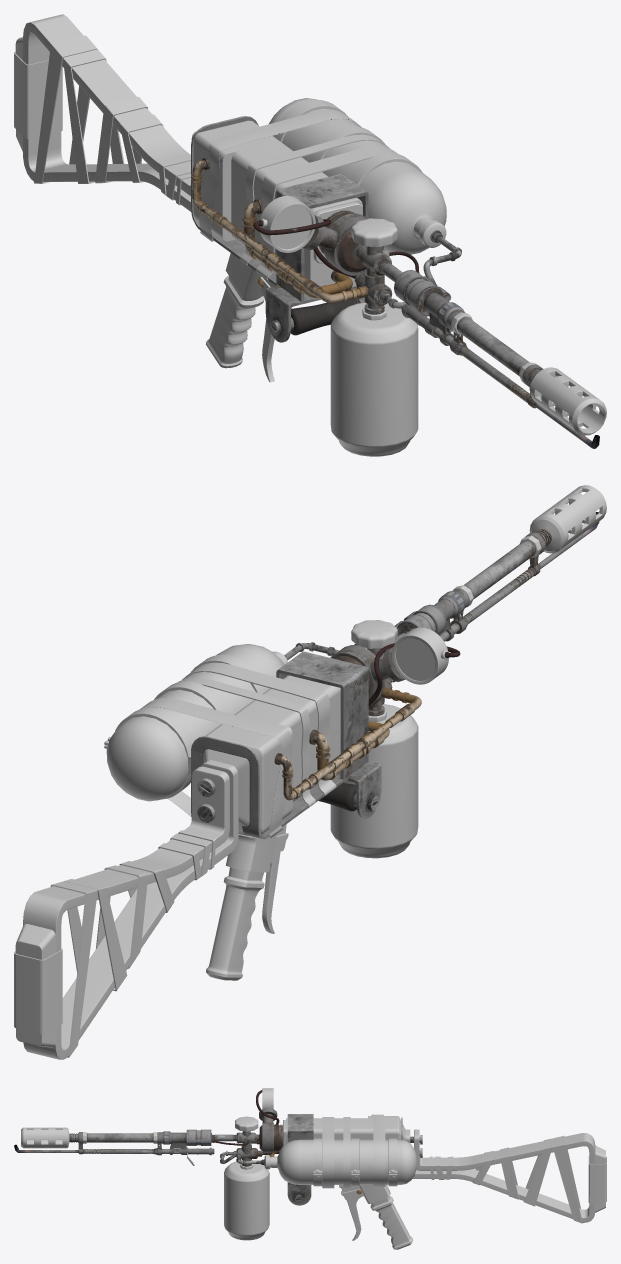
The picture shows the model from 3 angles, top to bottom: view 1: azimuth 30°, elevation 25°; view 2: azimuth 150°, elevation 25°; view 3: azimuth 270°, elevation 25°; orthographic projection. The views are drawn at different scales.
Visible parts, largest first — view 1: pCylinder44, polySurface130, polySurface163, pCube14, pCube15, polySurface179, polySurface187, polySurface126, polySurface111, polySurface180, polySurface121, polySurface106 (+18 smaller); view 2: polySurface130, polySurface163, pCube15, pCube14, pCylinder44, polySurface179, polySurface111, polySurface180, polySurface126, polySurface106, polySurface161, polySurface121 (+14 smaller); view 3: polySurface163, polySurface130, pCylinder44, pCube14, polySurface187, polySurface179, pCube15, polySurface121, polySurface126, polySurface180, polySurface161, polySurface115 (+16 smaller).
Boxes of the visible parts, bbox=[...] form: pCylinder44: bbox=[330, 302, 418, 456]; polySurface130: bbox=[23, 14, 197, 211]; polySurface163: bbox=[269, 98, 446, 254]; pCube14: bbox=[193, 120, 362, 287]; pCube15: bbox=[191, 116, 368, 342]; polySurface179: bbox=[206, 253, 264, 368]; polySurface187: bbox=[319, 210, 540, 383]; polySurface126: bbox=[529, 367, 606, 435]; polySurface111: bbox=[14, 51, 62, 139]; polySurface180: bbox=[199, 109, 361, 241]; polySurface121: bbox=[34, 35, 97, 183]; polySurface106: bbox=[191, 158, 368, 302]; polySurface130: bbox=[23, 760, 238, 1059]; polySurface163: bbox=[106, 644, 287, 801]; pCube15: bbox=[191, 651, 381, 839]; pCube14: bbox=[203, 675, 340, 835]; pCylinder44: bbox=[330, 704, 418, 858]; polySurface179: bbox=[206, 834, 277, 980]; polySurface111: bbox=[14, 948, 62, 1034]; polySurface180: bbox=[140, 698, 292, 838]; polySurface126: bbox=[529, 485, 606, 553]; polySurface106: bbox=[274, 687, 421, 800]; polySurface161: bbox=[182, 662, 336, 796]; polySurface121: bbox=[50, 881, 97, 1057]; polySurface163: bbox=[264, 1139, 416, 1184]; polySurface130: bbox=[405, 1129, 595, 1222]; pCylinder44: bbox=[224, 1160, 269, 1240]; pCube14: bbox=[283, 1116, 405, 1145]; polySurface187: bbox=[69, 1124, 282, 1151]; polySurface179: bbox=[359, 1185, 412, 1249]; pCube15: bbox=[287, 1114, 402, 1205]; polySurface121: bbox=[552, 1135, 582, 1223]; polySurface126: bbox=[21, 1127, 69, 1148]; polySurface180: bbox=[371, 1114, 387, 1186]; polySurface161: bbox=[322, 1117, 334, 1188]; polySurface115: bbox=[523, 1138, 552, 1206].
Size of the model in its own units: 0.2277 by 0.2602 by 0.9876.
